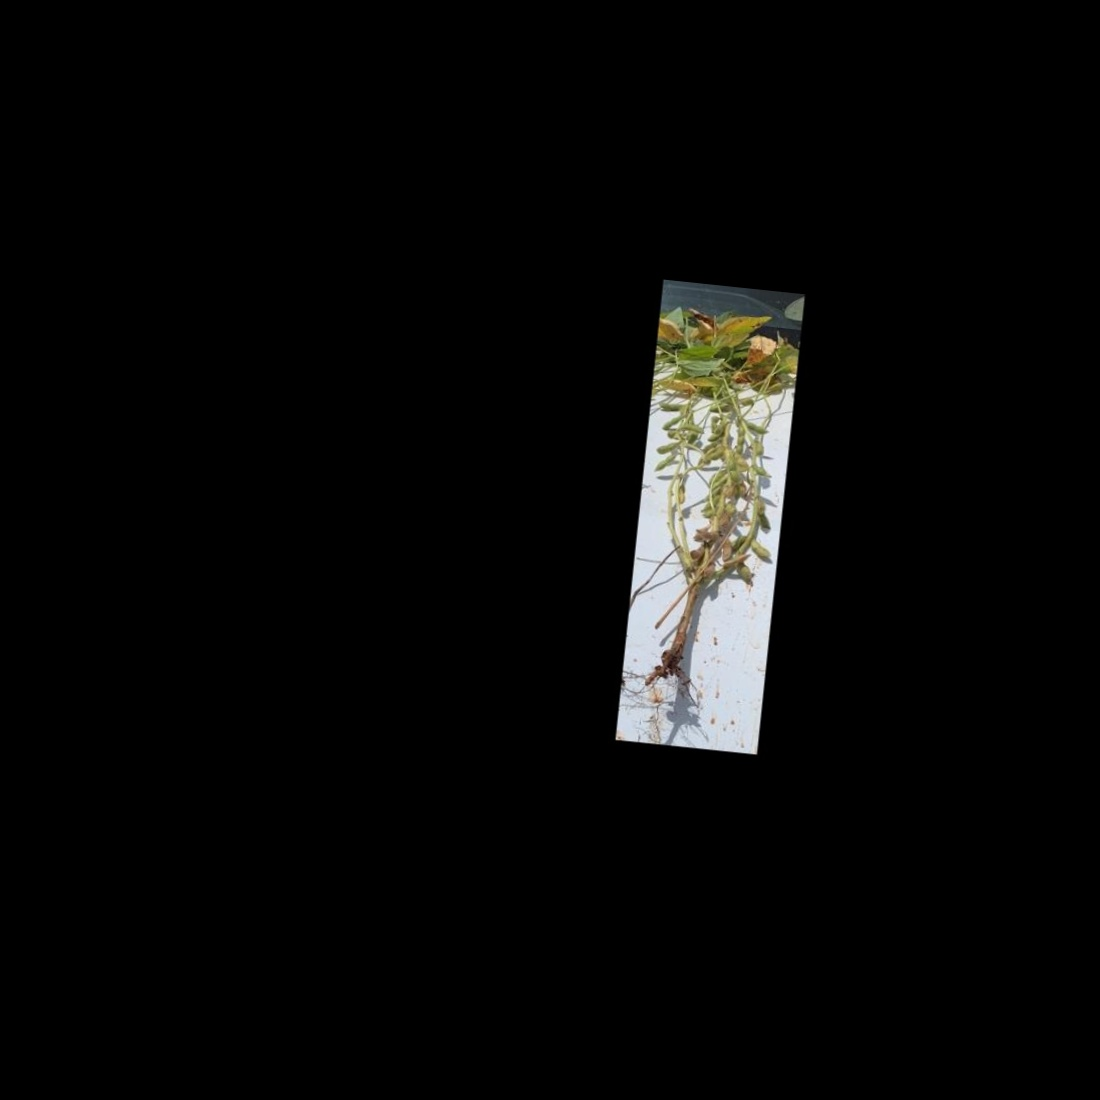pod: (748, 536, 774, 562), (651, 450, 677, 475), (742, 417, 770, 436), (661, 412, 684, 431), (656, 399, 687, 412), (654, 439, 677, 455), (677, 484, 689, 506)
soy: (624, 319, 799, 713)
